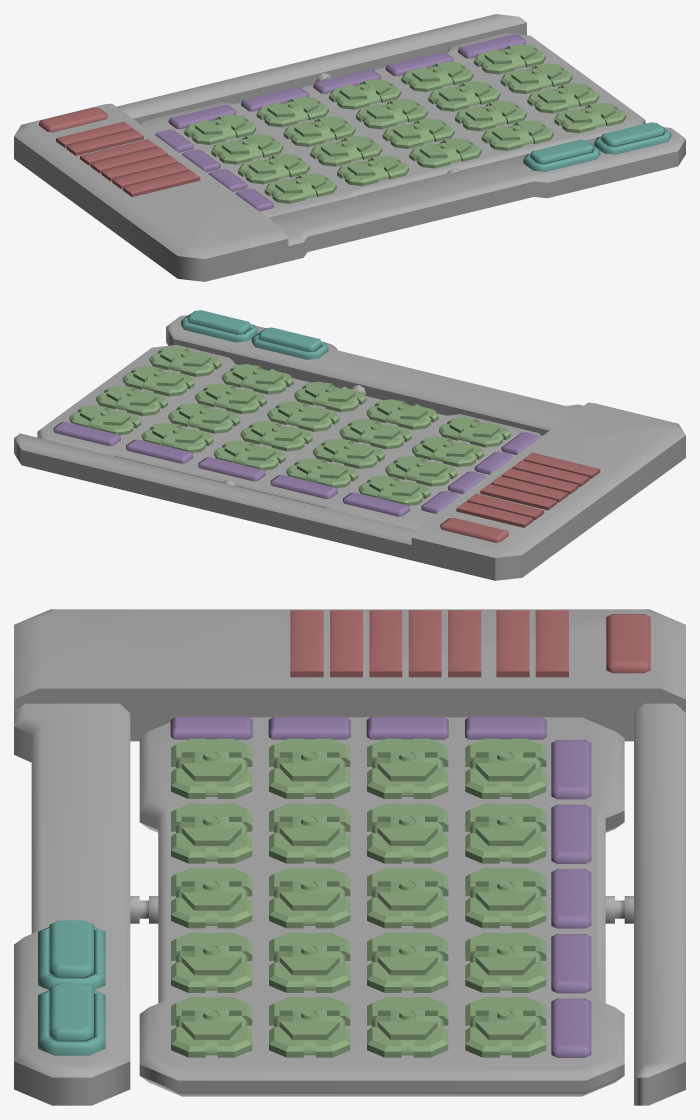
File: chessboard.fbx
3 views of the same model, one above another, from view 1: azimuth 30°, elevation 25°; view 2: azimuth 150°, elevation 25°; view 3: azimuth 270°, elevation 25° (orthographic). The views are drawn at different scales.
Visible parts, largest first — view 1: chessboard, chessbase, chessboard_Rotate, board1, board2, buttonbase, button_Start, button_Deck; view 2: chessboard, chessbase, chessboard_Rotate, board1, board2, buttonbase, button_Start, button_Deck; view 3: chessboard, chessbase, chessboard_Rotate, board2, board1, buttonbase, button_Deck, button_Start.
Boxes of the visible parts, x1,y1,x2,y2 form: chessboard: (14, 14, 685, 281); chessbase: (184, 44, 626, 203); chessboard_Rotate: (140, 33, 645, 217); board1: (39, 107, 200, 196); board2: (155, 34, 525, 211); buttonbase: (523, 126, 671, 171); button_Start: (530, 139, 593, 163); button_Deck: (601, 122, 664, 146); chessboard: (14, 315, 685, 580); chessbase: (69, 346, 510, 505); chessboard_Rotate: (37, 345, 541, 529); board1: (440, 452, 600, 542); board2: (53, 422, 539, 516); buttonbase: (181, 314, 328, 359); button_Start: (258, 327, 321, 351); button_Deck: (187, 310, 250, 333); chessboard: (14, 609, 685, 1105); chessbase: (171, 738, 546, 1057); chessboard_Rotate: (130, 717, 633, 1096); board2: (170, 716, 591, 1057); board1: (290, 610, 650, 677); buttonbase: (38, 927, 105, 1055); button_Deck: (49, 983, 93, 1040); button_Start: (49, 920, 93, 977).
Size of the model in its own units: 63.64 by 5.37 by 39.77.
